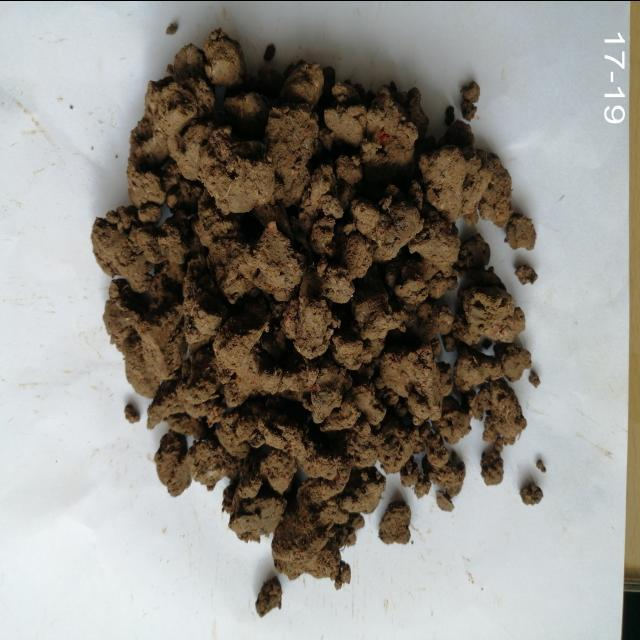soil: (172, 147, 449, 480)
